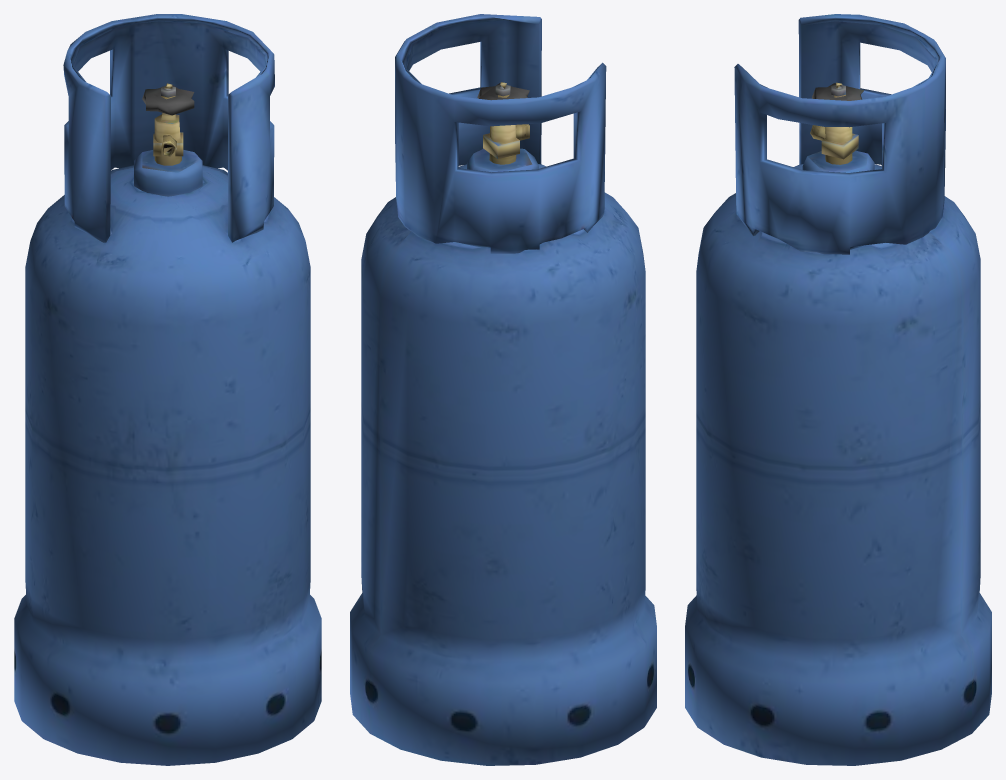
File: item-cryo.glb
3 views of the same model, side by side, from view 1: azimuth 30°, elevation 25°; view 2: azimuth 150°, elevation 25°; view 3: azimuth 270°, elevation 25° (orthographic).
Visible parts, largest first — view 1: gas_bottle_clean_gas_bottle_clean_0; view 2: gas_bottle_clean_gas_bottle_clean_0; view 3: gas_bottle_clean_gas_bottle_clean_0.
Part boxes in pixels (x1,y1,x2,y2): gas_bottle_clean_gas_bottle_clean_0: [14, 14, 321, 765]; gas_bottle_clean_gas_bottle_clean_0: [350, 14, 656, 765]; gas_bottle_clean_gas_bottle_clean_0: [685, 14, 991, 765].
Bounding box in the file's own units: 0.2588 × 0.6 × 0.2588.
1 material, 1 textured.
